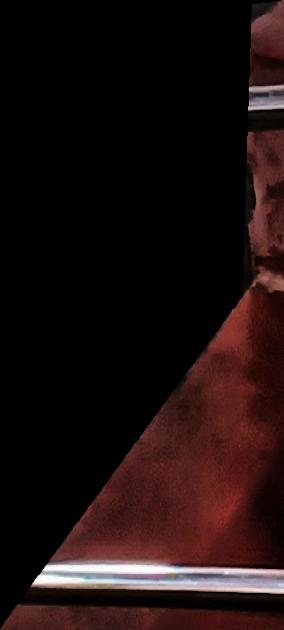stairs: (0, 1, 284, 630)
